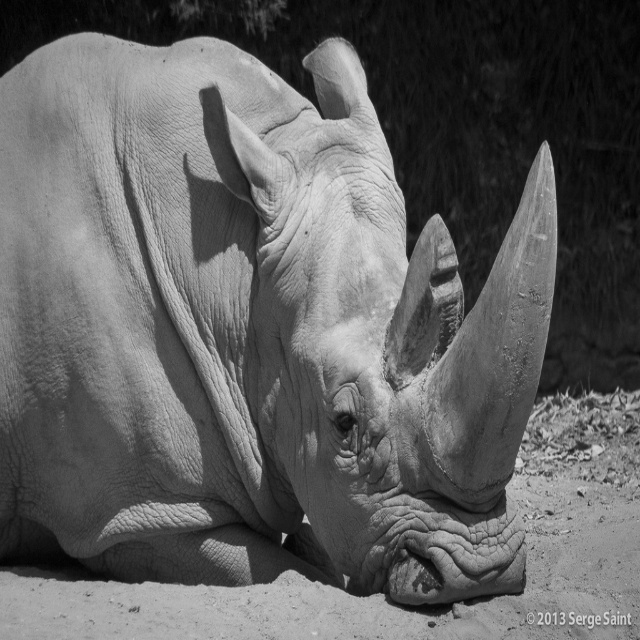Rhinoceros: (0, 28, 558, 615)
